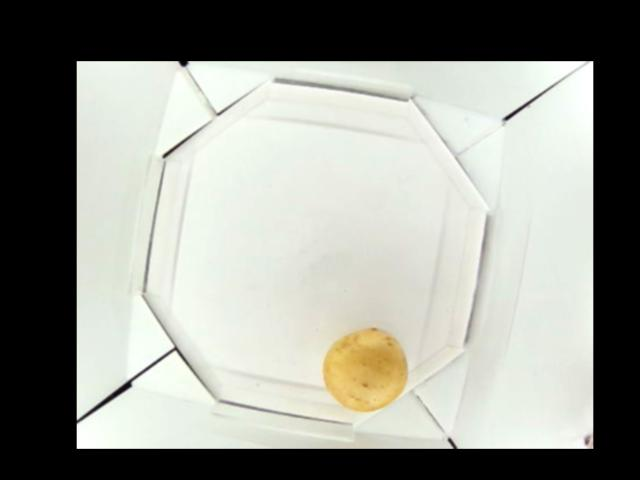Potato: (322, 326, 407, 418)
